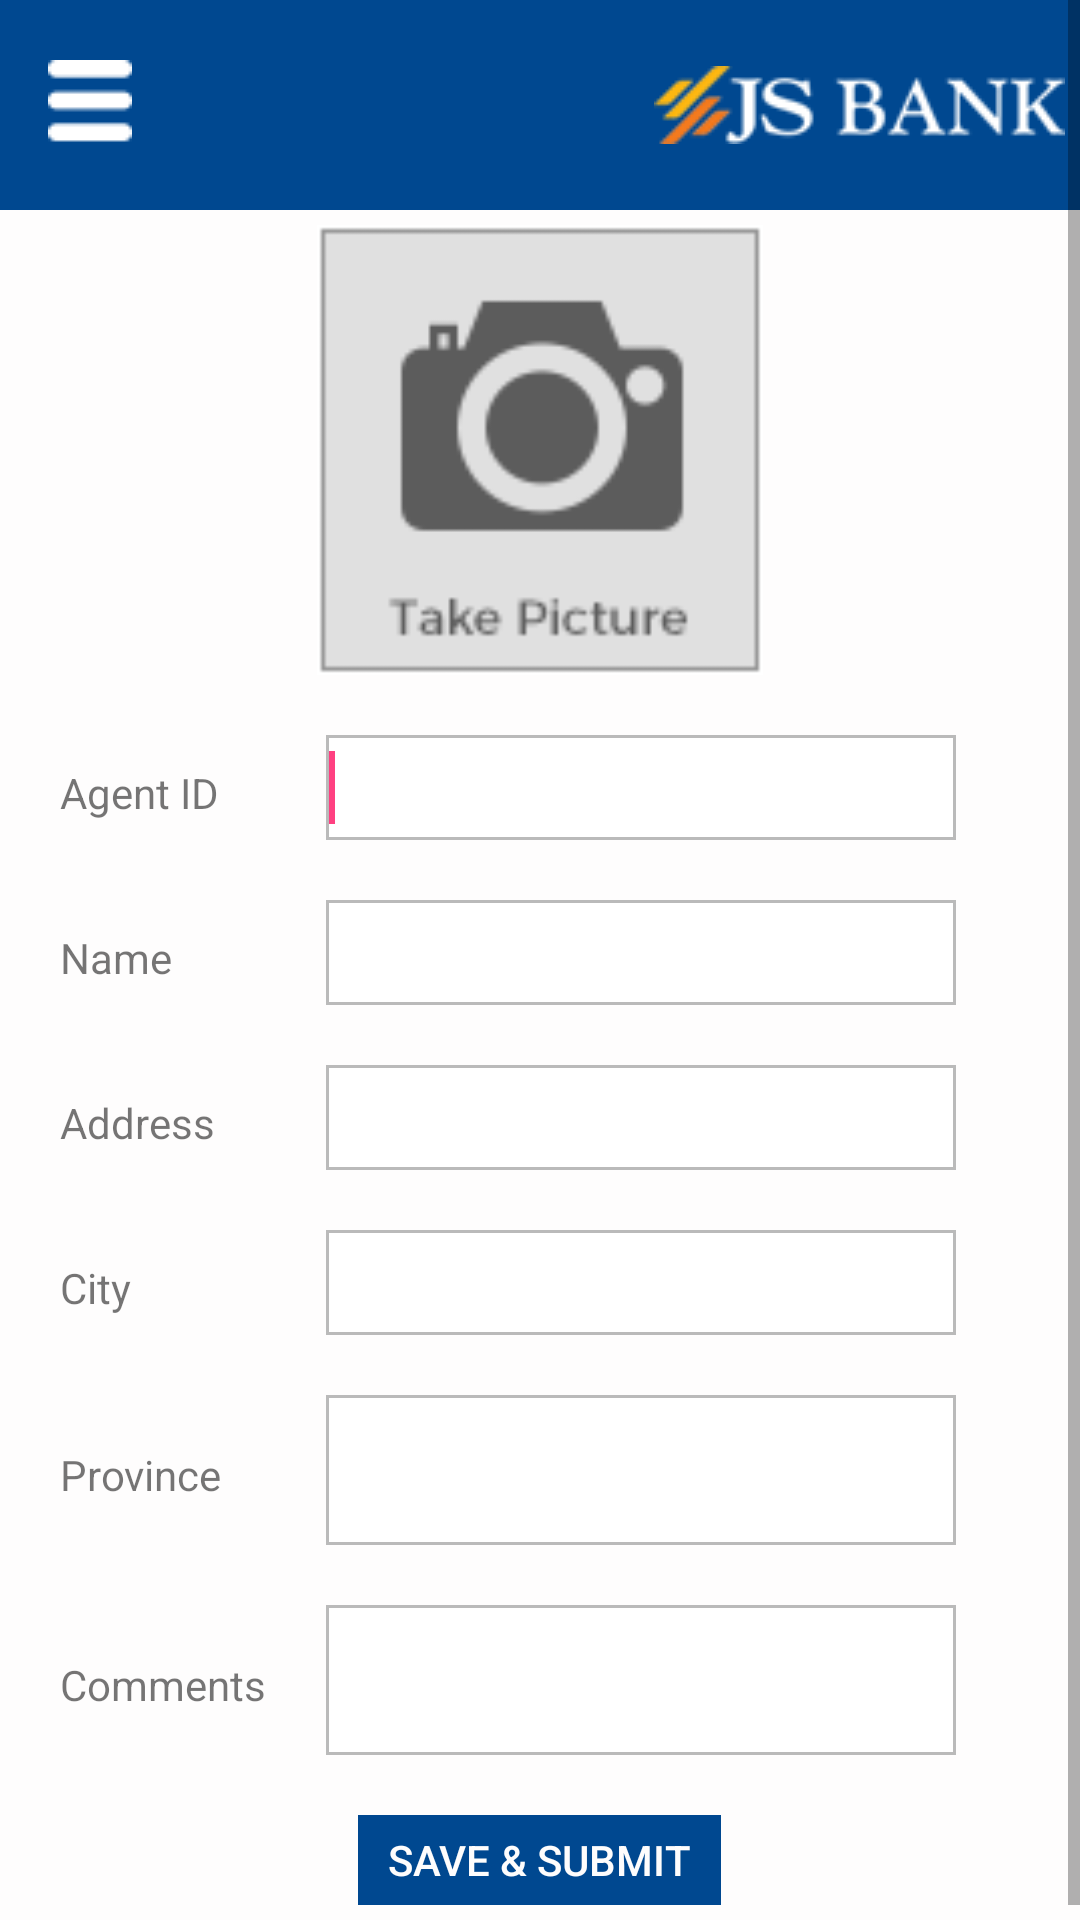

Icon bounding boxes for this 1080px x 1920px phone screenshot, format (x1, y1, x2, y2):
menu: (48, 60, 132, 142)
